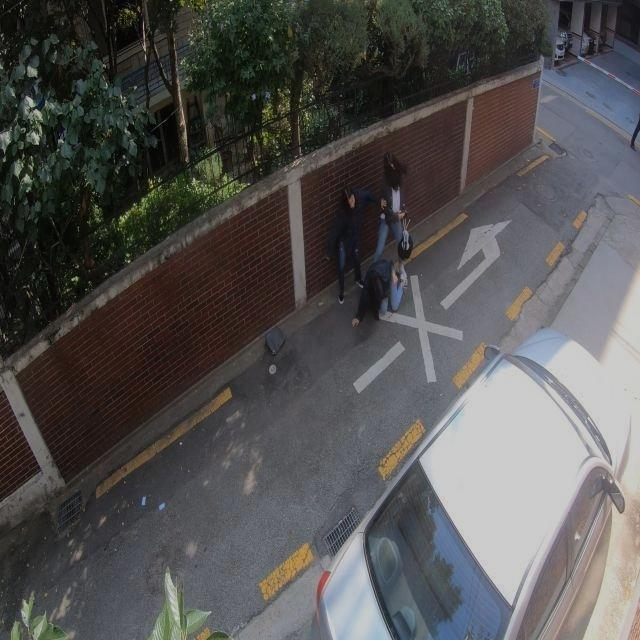fight: (327, 160, 415, 327)
